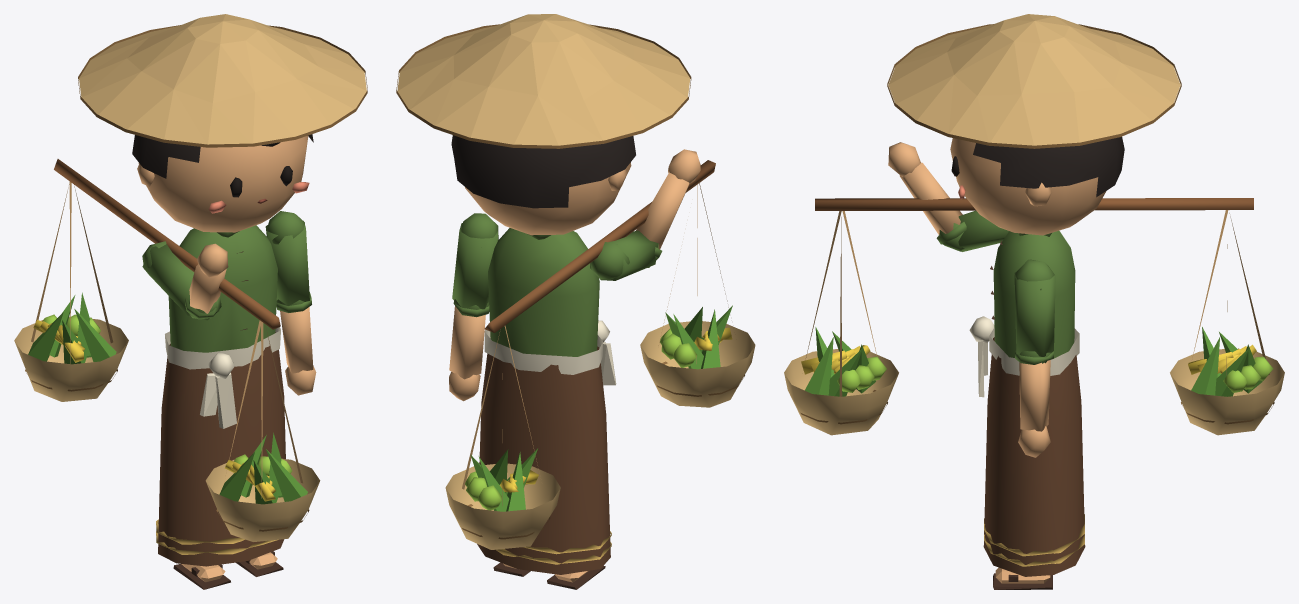
File: vendor_yoke.glb
3 views of the same model, side by side, from view 1: azimuth 30°, elevation 25°; view 2: azimuth 150°, elevation 25°; view 3: azimuth 270°, elevation 25° (orthographic).
Visible parts, largest first — view 1: head, body, prop_yoke, arm_L, forearm_L, forearm_R, arm_R, shin_R, shin_L; view 2: head, body, prop_yoke, arm_L, forearm_L, forearm_R, arm_R, shin_R; view 3: head, body, prop_yoke, arm_L, forearm_L, forearm_R, arm_R, shin_L.
Boxes of the visible parts, bbox=[...] form: head: bbox=[78, 14, 367, 232]; body: bbox=[156, 225, 285, 566]; prop_yoke: bbox=[14, 159, 320, 541]; arm_L: bbox=[265, 211, 311, 305]; forearm_L: bbox=[276, 291, 316, 395]; forearm_R: bbox=[185, 243, 228, 319]; arm_R: bbox=[142, 241, 219, 320]; shin_R: bbox=[173, 564, 230, 589]; shin_L: bbox=[236, 551, 283, 576]; head: bbox=[396, 14, 691, 235]; body: bbox=[477, 228, 616, 574]; prop_yoke: bbox=[445, 160, 755, 549]; arm_L: bbox=[452, 213, 498, 309]; forearm_L: bbox=[449, 302, 489, 401]; forearm_R: bbox=[636, 149, 700, 257]; arm_R: bbox=[590, 230, 658, 280]; shin_R: bbox=[547, 565, 605, 589]; head: bbox=[887, 14, 1181, 235]; body: bbox=[969, 230, 1085, 576]; prop_yoke: bbox=[784, 198, 1284, 435]; arm_L: bbox=[1014, 259, 1055, 363]; forearm_L: bbox=[1015, 350, 1053, 457]; forearm_R: bbox=[888, 142, 966, 249]; arm_R: bbox=[939, 210, 1008, 251]; shin_L: bbox=[993, 567, 1052, 589].
Size of the model in its own units: 0.7702 by 1.59 by 1.31.
